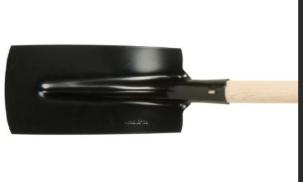PELLE: (0, 39, 303, 164)
